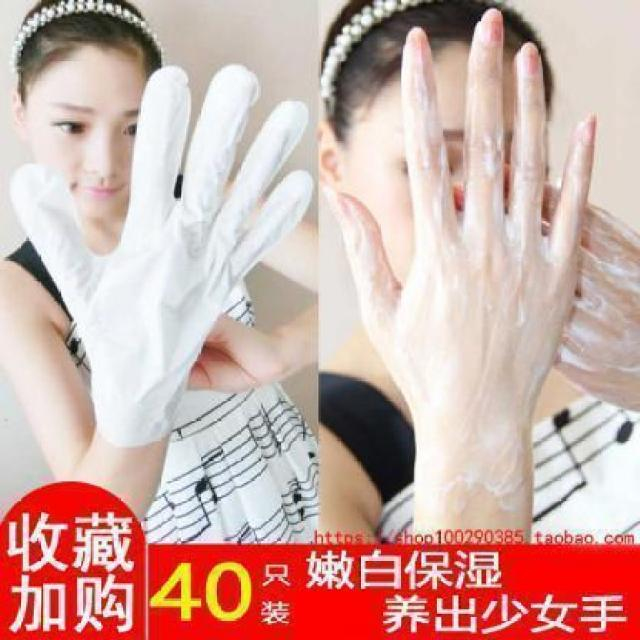gloves: (0, 78, 308, 424)
